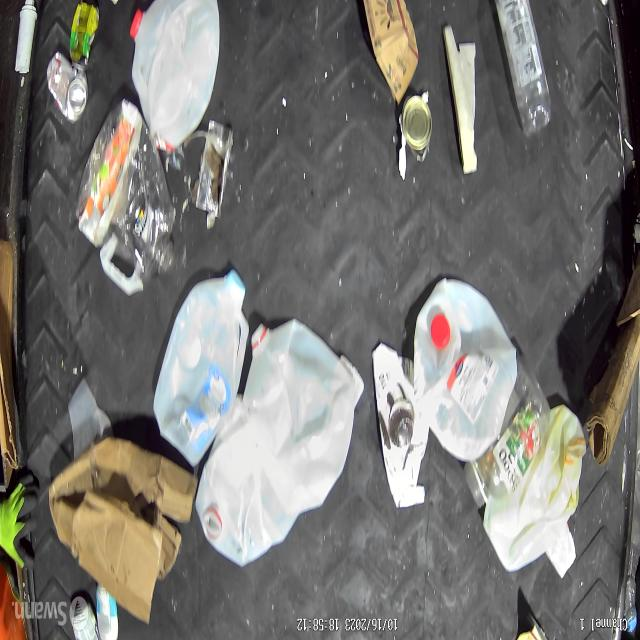can: (195, 119, 233, 220), (46, 52, 88, 126), (400, 92, 433, 164), (68, 0, 99, 69), (95, 585, 118, 640)
milk_jug: (243, 318, 354, 518), (153, 271, 250, 469), (414, 279, 518, 459), (483, 407, 586, 578), (194, 397, 295, 568), (131, 0, 221, 153)
plastic_bottle: (75, 100, 177, 300), (463, 356, 551, 508), (494, 0, 552, 140), (624, 578, 637, 640)
